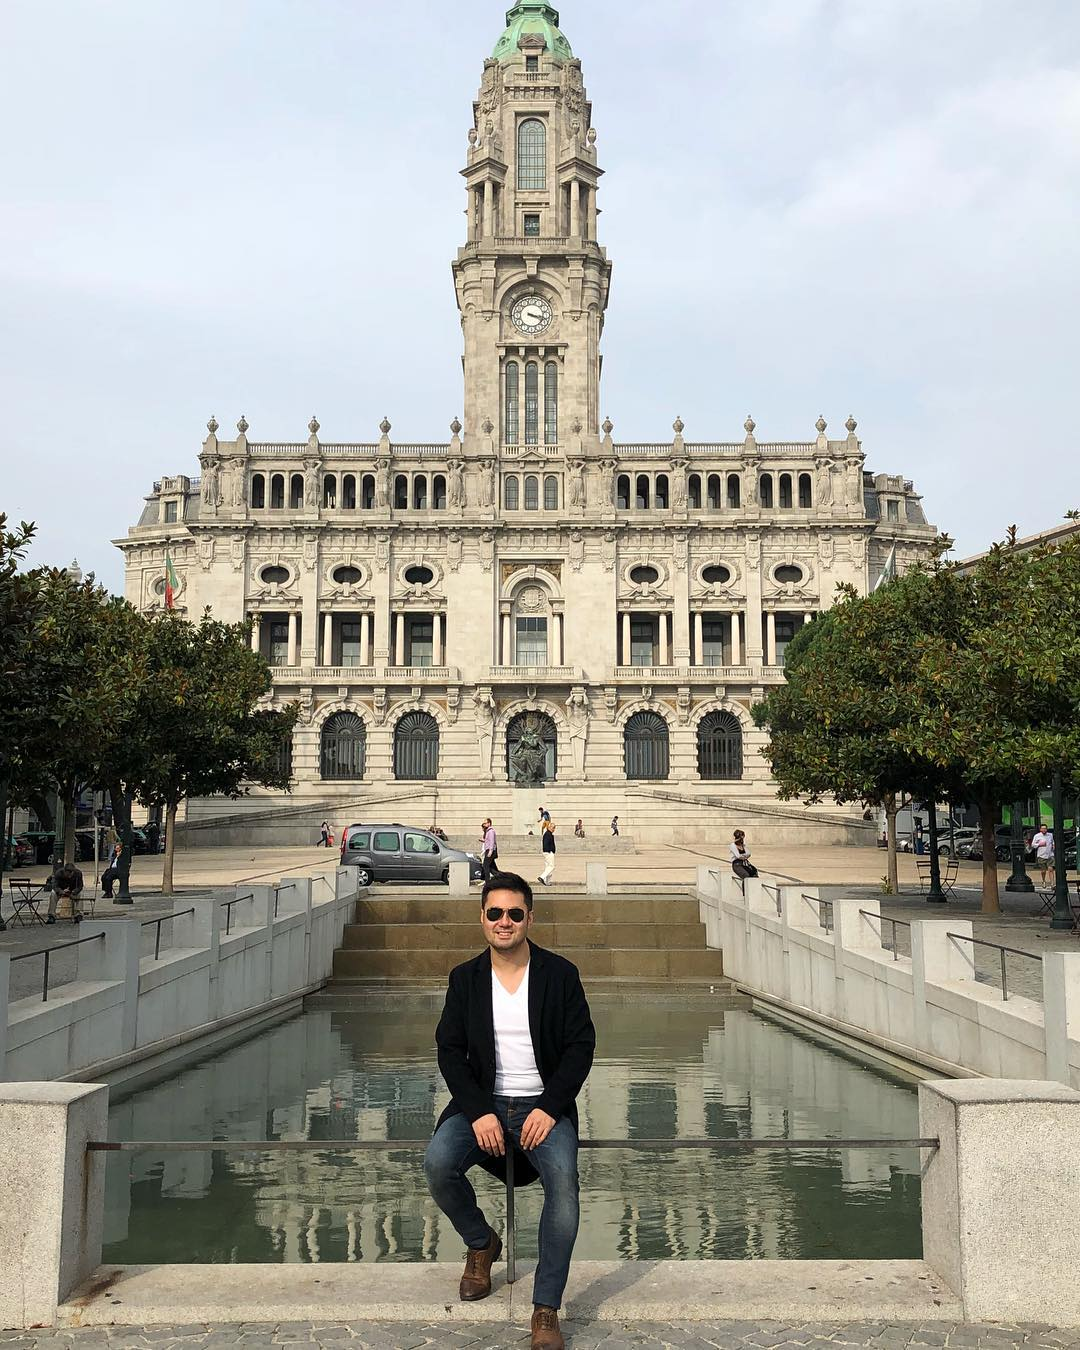camara: (106, 0, 955, 829)
